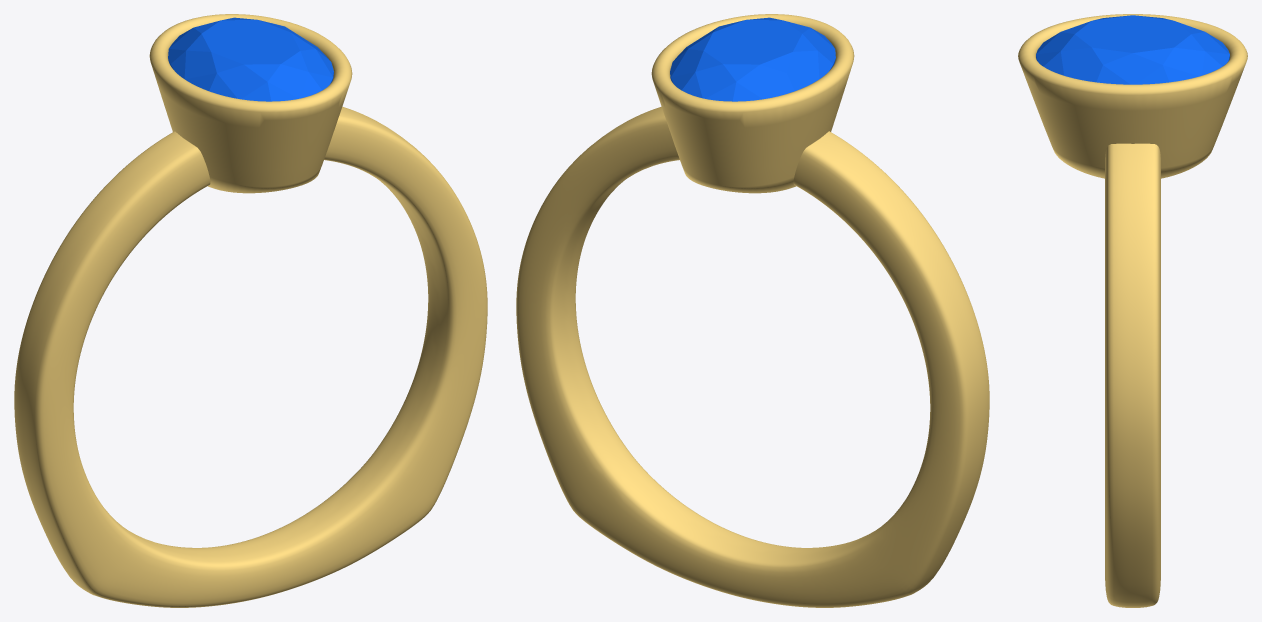
File: bluesapphire-oval-yellowgold-bezelset-europeanshank-nosidestones.glb
3 renders of one model, left to right at view 1: azimuth 30°, elevation 25°; view 2: azimuth 150°, elevation 25°; view 3: azimuth 270°, elevation 25°, orthographic. The views are drawn at different scales.
Parts seen in each view (by area): view 1: metal, stone; view 2: metal, stone; view 3: metal, stone.
Boxes of the visible parts, <box> form: metal: <box>14,14,487,607</box>; stone: <box>168,17,333,101</box>; metal: <box>516,14,989,607</box>; stone: <box>670,17,835,101</box>; metal: <box>1018,14,1247,607</box>; stone: <box>1036,15,1229,84</box>.
Bounding box in the file's own units: 20.11 × 23.21 × 9.04.
